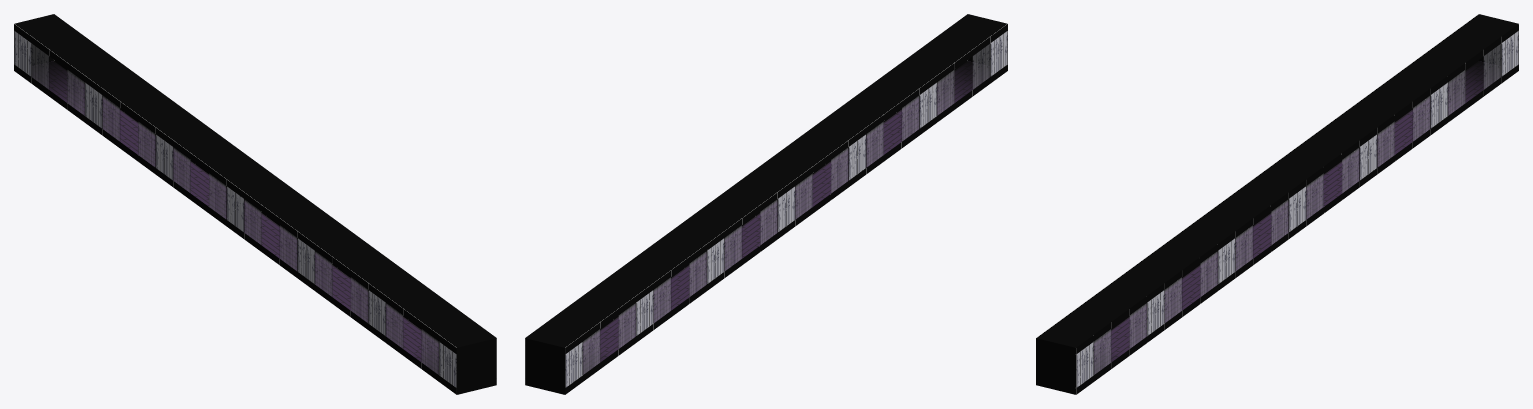
File: stage3.fbx
3 renders of one model, left to right at view 1: azimuth 30°, elevation 25°; view 2: azimuth 150°, elevation 25°; view 3: azimuth 330°, elevation 25°, orthographic.
Parts seen in each view (by area): view 1: polySurface25, polySurface24; view 2: polySurface25, polySurface24; view 3: polySurface25, polySurface24.
Boxes of the visible parts, left/top/right/bottom form: polySurface25: left=14, top=14, right=496, bottom=394; polySurface24: left=32, top=44, right=438, bottom=374; polySurface25: left=525, top=14, right=1007, bottom=394; polySurface24: left=583, top=44, right=989, bottom=374; polySurface25: left=1036, top=14, right=1518, bottom=394; polySurface24: left=1094, top=44, right=1500, bottom=374.
Size of the model in its own units: 24.77 by 27.76 by 473.
Materials: 2 (2 with a texture image).
